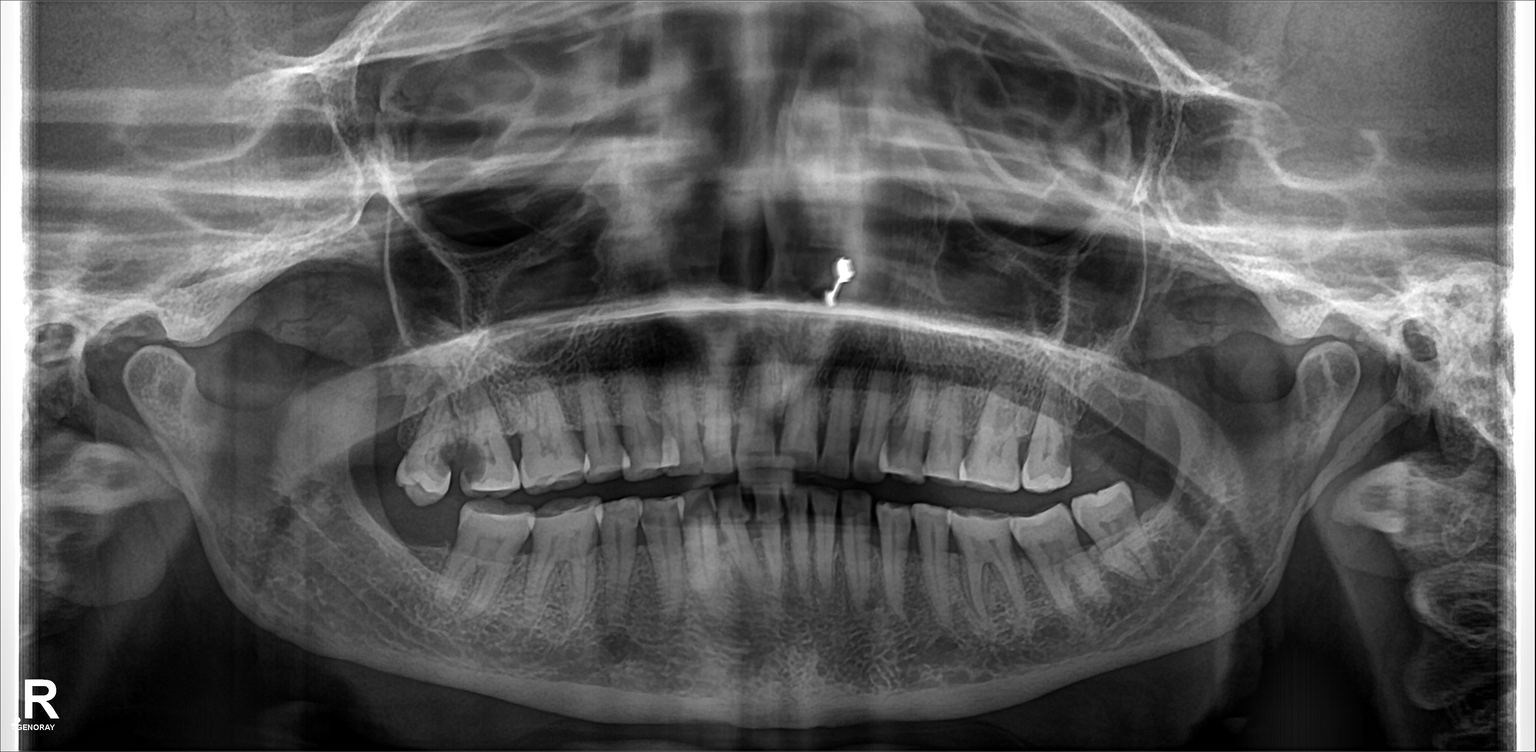Dental Caries: (434, 441, 489, 483)
Missing Tooth: (365, 374, 410, 492), (395, 506, 454, 590), (1123, 378, 1162, 480), (1078, 389, 1119, 477)
